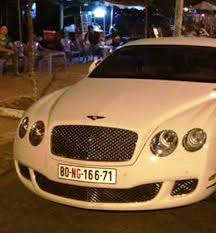plate: (57, 162, 117, 184)
